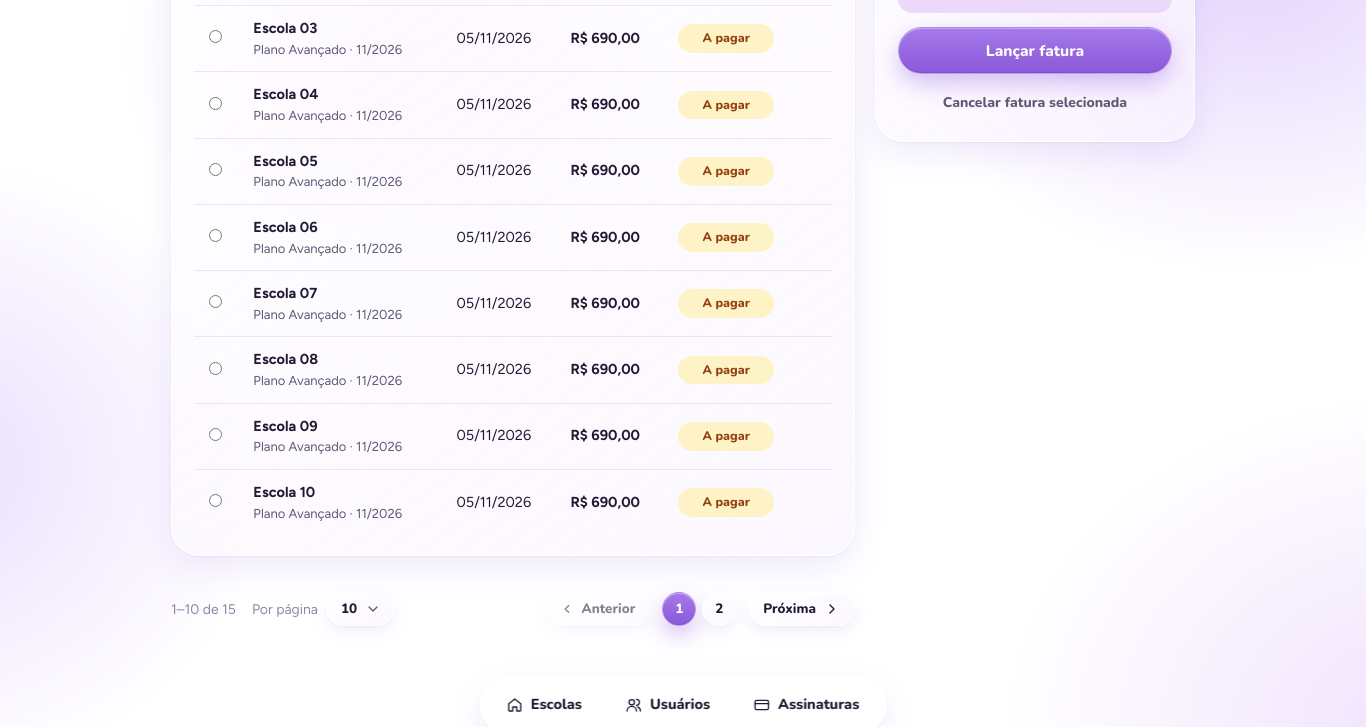
Test: FaturasPlataforma › trocar o filtro volta para a primeira página
The image size is (1366, 727).
(page scrolled)
Click the button "Próxima" at (802, 609), box [748,592,855,626]
(page scrolled)
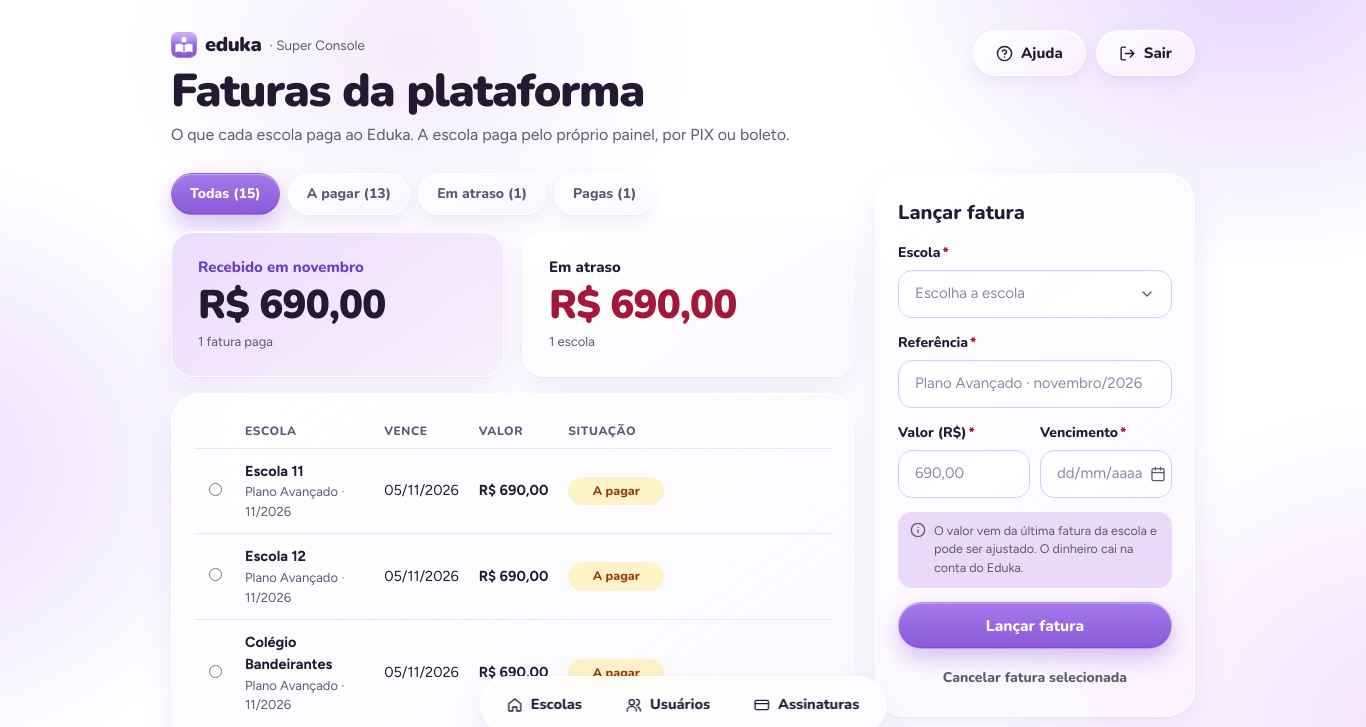
Click the button "A pagar (13)" at (349, 194), box [288,173,410,215]
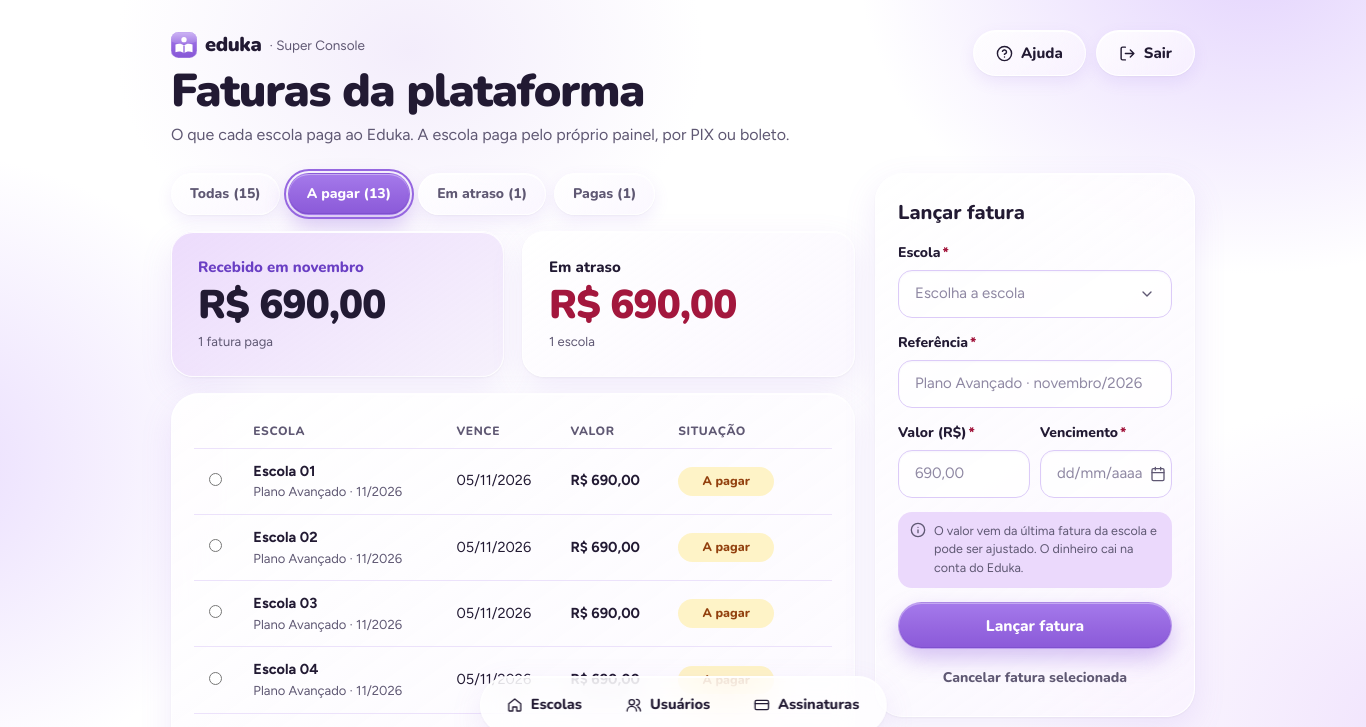
Expected: the text "Escola 01" is shown, [253,462,315,480]
